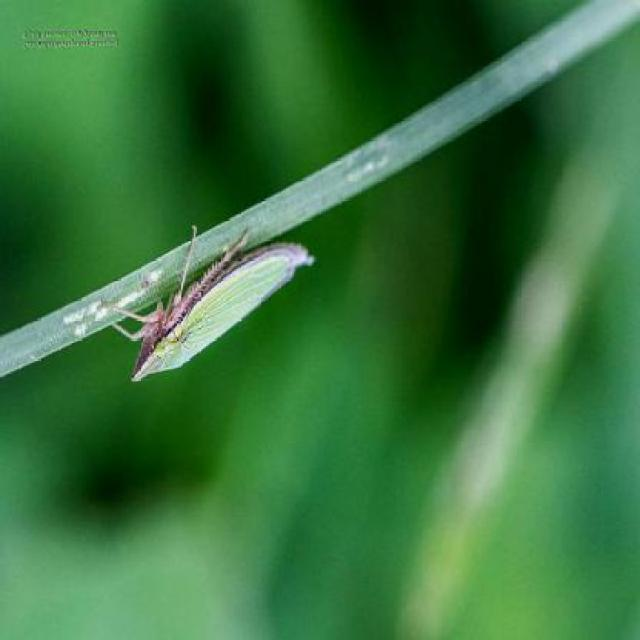green-leafhopper: (132, 215, 312, 383)
